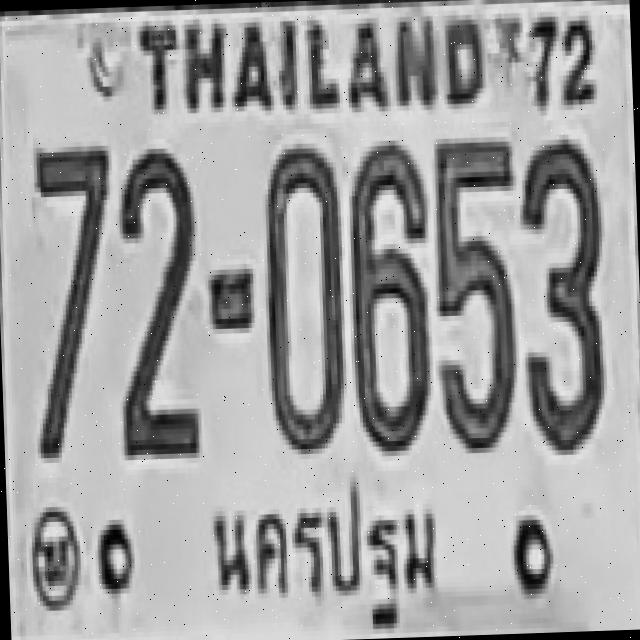0: (258, 142, 347, 450)
2: (111, 144, 200, 458)
3: (516, 133, 606, 451)
5: (431, 134, 522, 452)
6: (345, 139, 434, 452)
7: (27, 140, 118, 458)
NakhonPathom: (201, 466, 439, 634)
